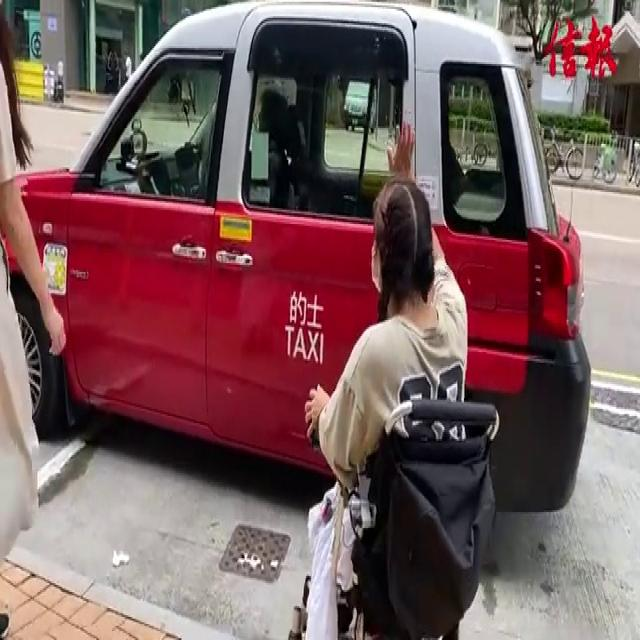wheelchairs: (283, 350, 506, 640)
